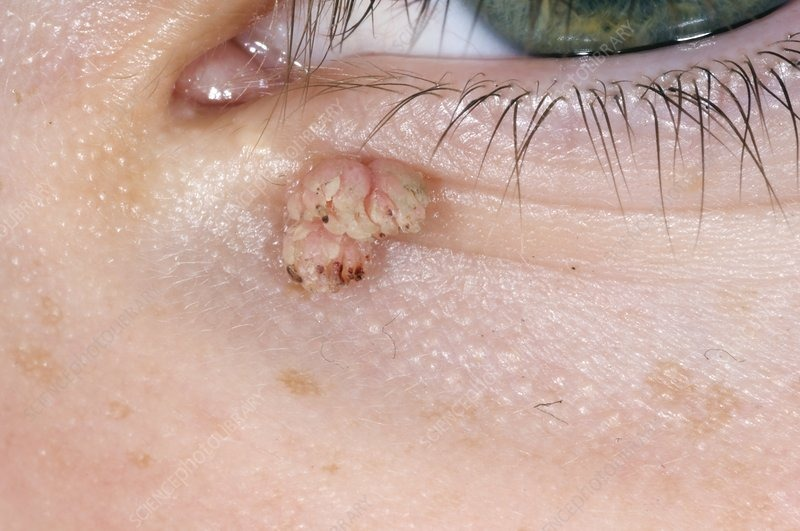Warts: (257, 144, 443, 303)
